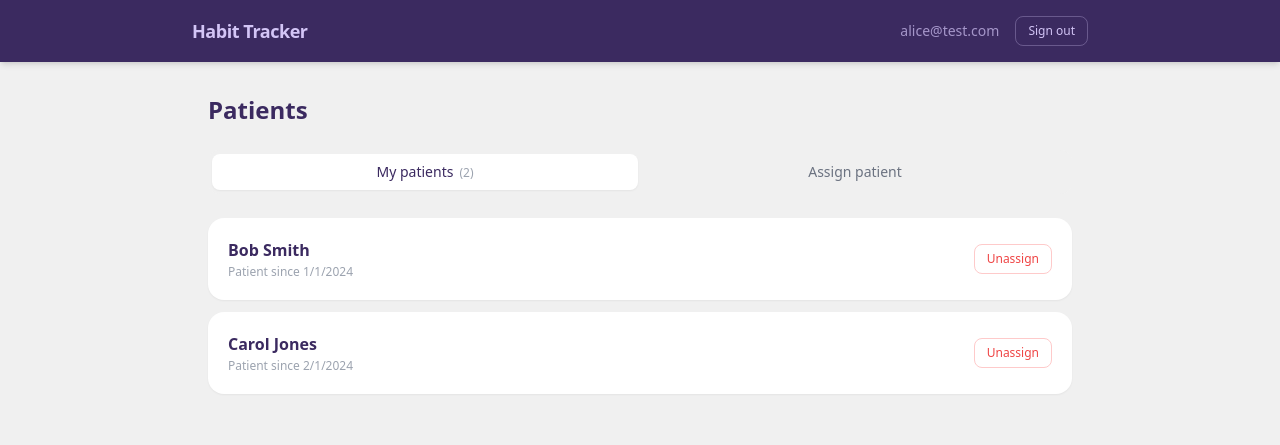
NutritionistPatientsPage › shows API error from the assign mutation in the assign panel
Click the tab "Assign patient": (855, 172) [642,154,1068,190]
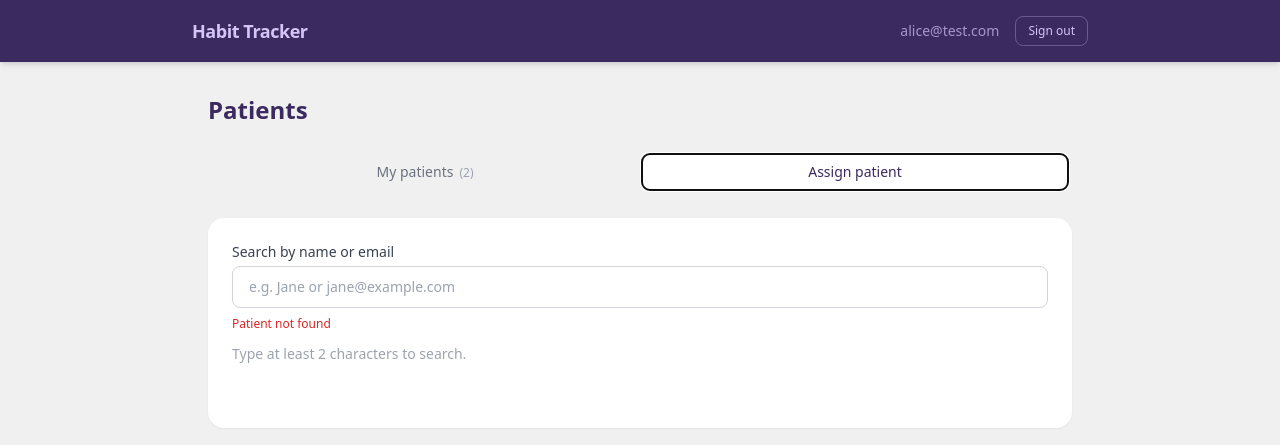
expect the message reads "Patient not found": met, box [232,315,331,332]
